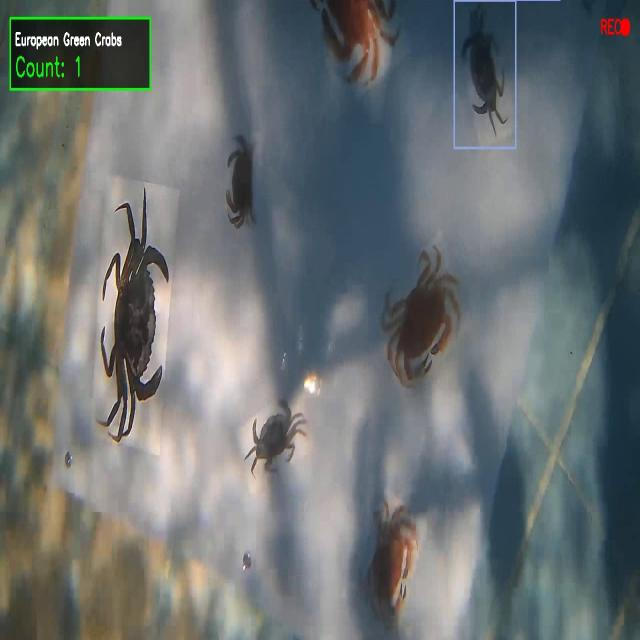European_Green_Crab: (87, 174, 171, 464), (454, 5, 518, 145), (242, 381, 305, 496)
